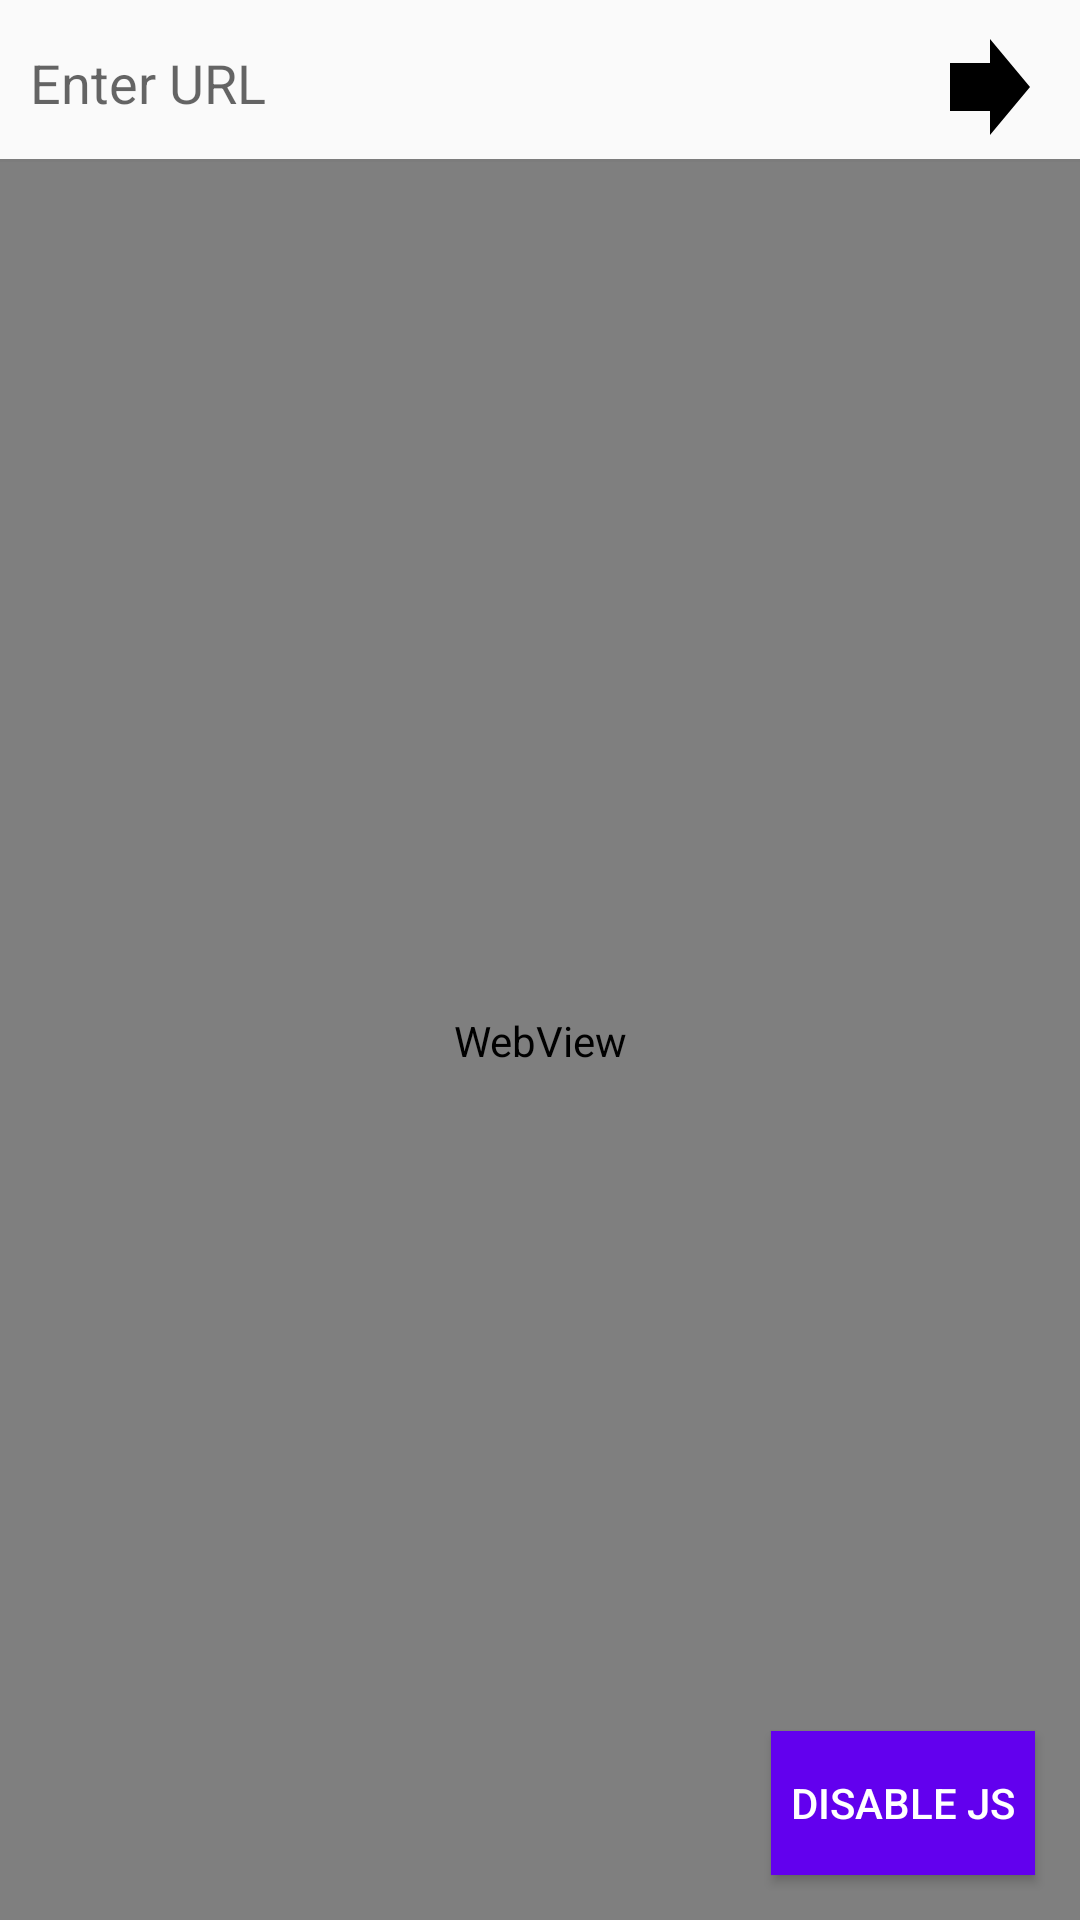

Icon bounding boxes for this 1080w x 1920h phone screenshot, format (x1, y1, x2, y2):
forward: (950, 39, 1030, 135)
